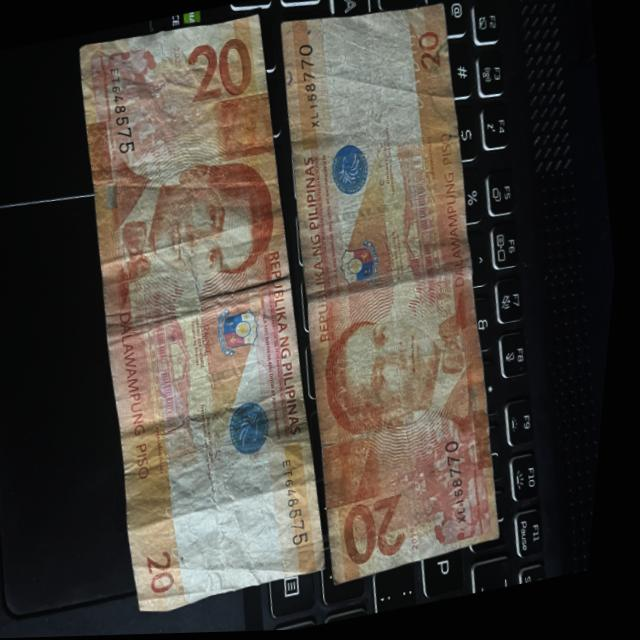concealed_value: (317, 436, 396, 521), (211, 97, 282, 169)
serial_number: (97, 49, 148, 162), (442, 426, 489, 532), (292, 44, 335, 151)
value: (337, 483, 430, 577), (174, 22, 265, 115)
